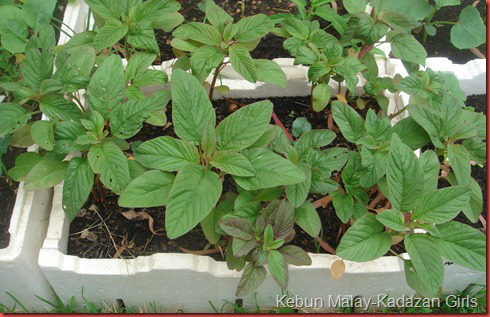Bayam: (54, 50, 261, 229)
